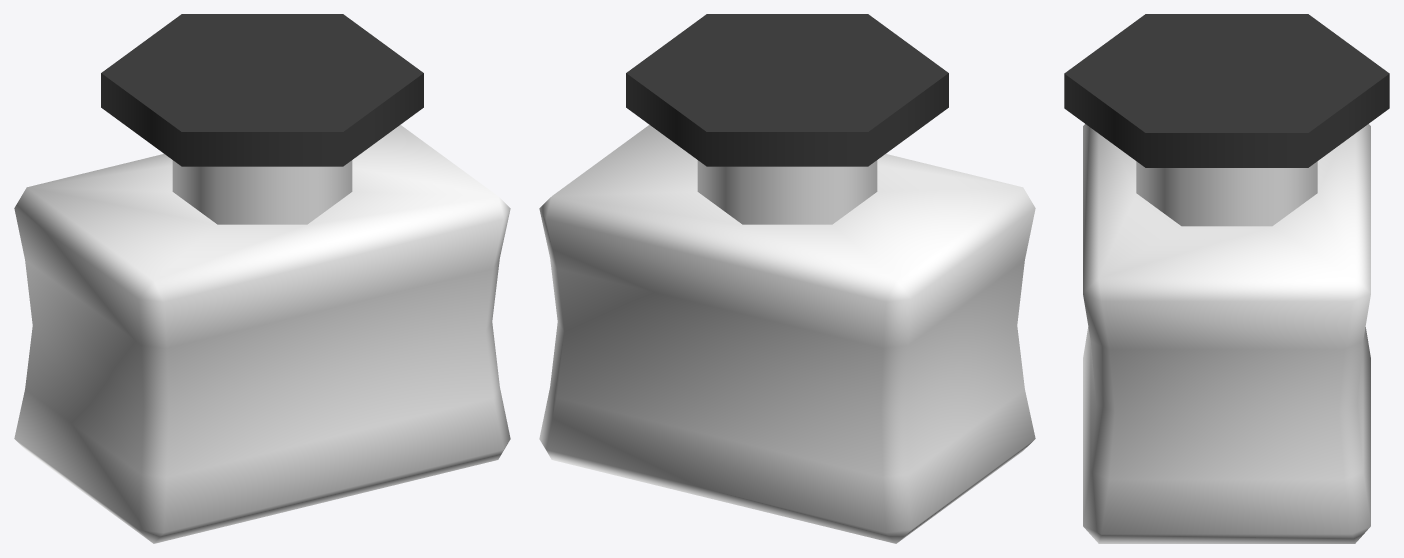
The model's file is Ink bottle.fbx.
3 views of the same model, side by side, from view 1: azimuth 30°, elevation 25°; view 2: azimuth 150°, elevation 25°; view 3: azimuth 270°, elevation 25° (orthographic).
Parts seen in each view (by area): view 1: 立方体, 立方体.002; view 2: 立方体, 立方体.002; view 3: 立方体, 立方体.002.
Boxes of the visible parts, <box> form: 立方体: <box>14,125,510,543</box>; 立方体.002: <box>101,14,423,166</box>; 立方体: <box>539,125,1035,543</box>; 立方体.002: <box>626,14,948,166</box>; 立方体: <box>1083,124,1370,543</box>; 立方体.002: <box>1064,14,1389,167</box>.
Size of the model in its own units: 59.31 by 58.27 by 44.56.
